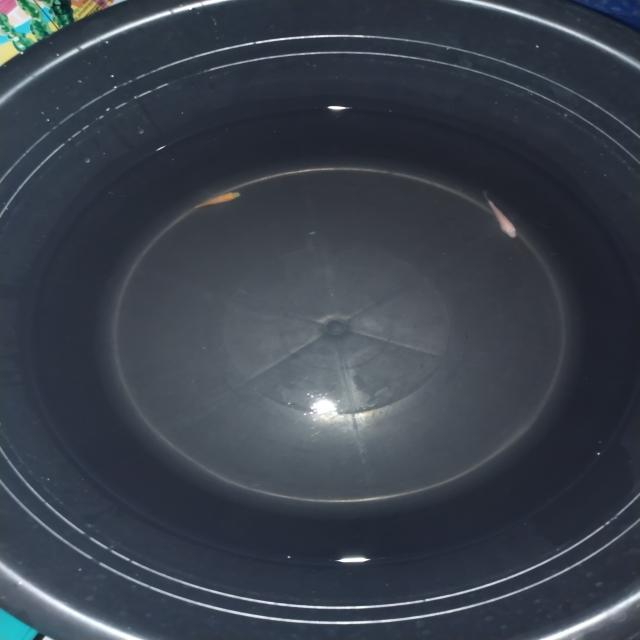nila: (475, 190, 524, 242), (186, 183, 246, 214)
